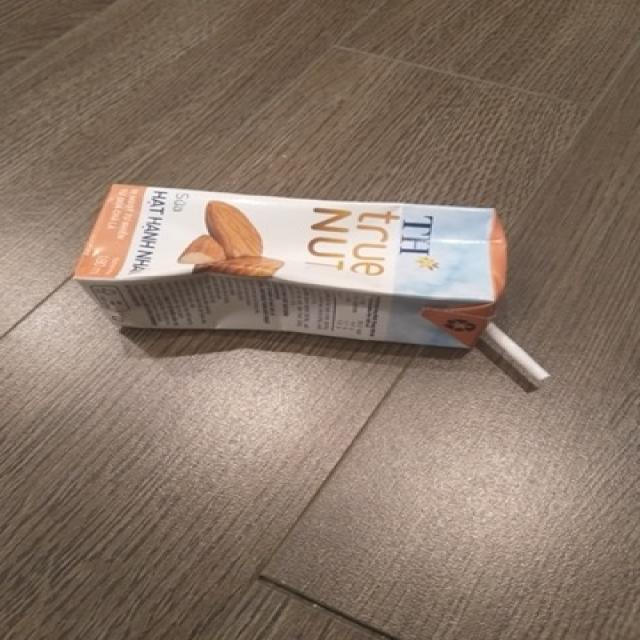PaperCardboard: (80, 177, 564, 395)
